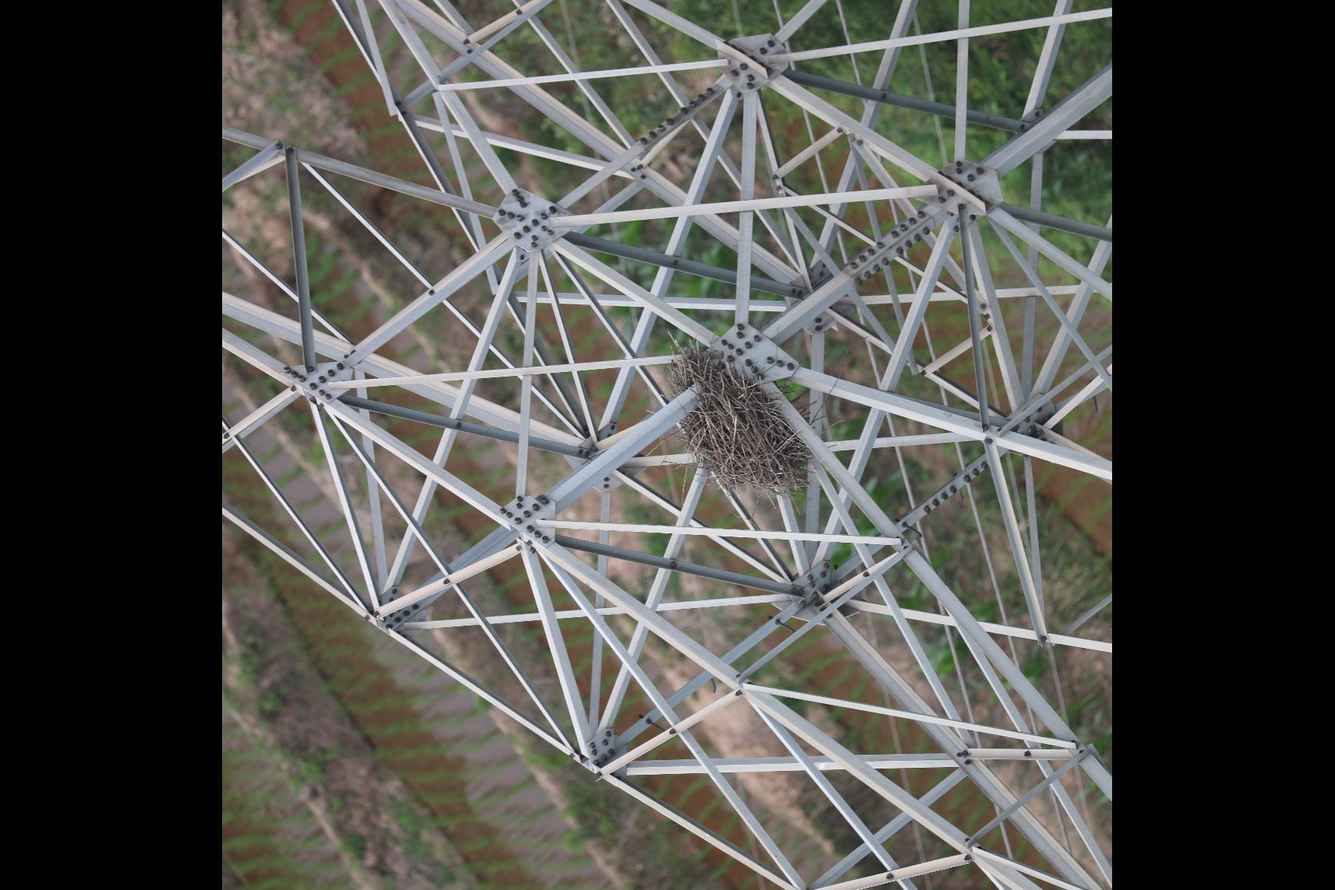nest: (658, 336, 815, 495)
